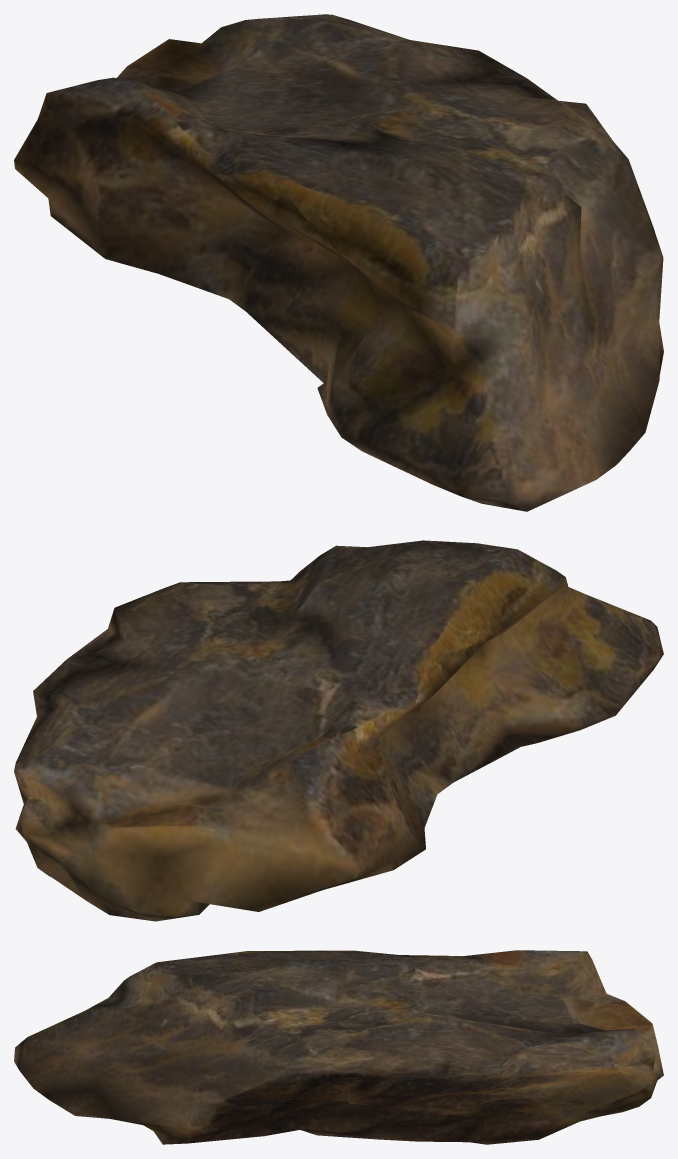
File: rock_09.glb
The picture shows the model from 3 angles, top to bottom: view 1: azimuth 30°, elevation 25°; view 2: azimuth 150°, elevation 25°; view 3: azimuth 270°, elevation 25°; orthographic projection. The views are drawn at different scales.
Parts seen in each view (by area): view 1: rock_09_LOD0; view 2: rock_09_LOD0; view 3: rock_09_LOD0.
Boxes of the visible parts, x1=… form: rock_09_LOD0: x1=14, y1=14, x2=663, y2=511; rock_09_LOD0: x1=14, y1=540, x2=663, y2=921; rock_09_LOD0: x1=14, y1=950, x2=663, y2=1144.
Bounding box in the file's own units: 0.0738 × 0.0326 × 0.1442.
Materials: 1 (1 with a texture image).
